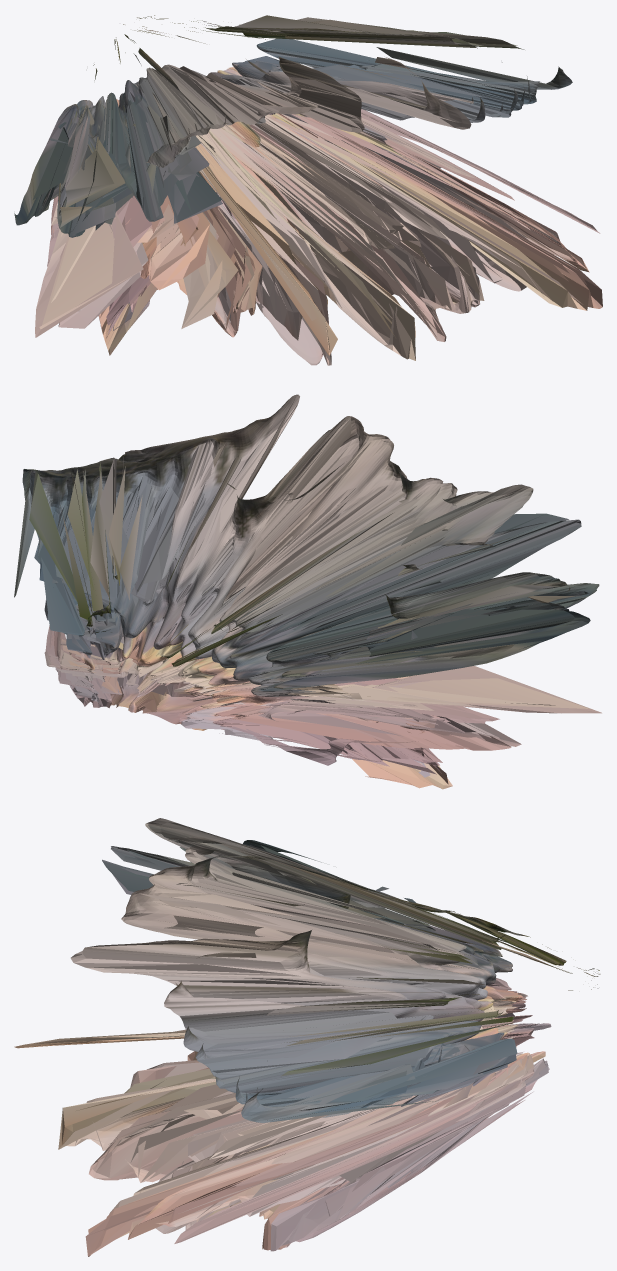
The model's file is vggt_scene.glb.
3 renders of one model, top to bottom at view 1: azimuth 30°, elevation 25°; view 2: azimuth 150°, elevation 25°; view 3: azimuth 270°, elevation 25°, orthographic. The views are drawn at different scales.
Visible parts, largest first — view 1: vggt_1b_surface; view 2: vggt_1b_surface; view 3: vggt_1b_surface.
Boxes of the visible parts, x1=… form: vggt_1b_surface: x1=14, y1=15, x2=602, y2=365; vggt_1b_surface: x1=14, y1=394, x2=601, y2=789; vggt_1b_surface: x1=14, y1=818, x2=600, y2=1256.
Bounding box in the file's own units: 20.18 × 9.51 × 18.04.
